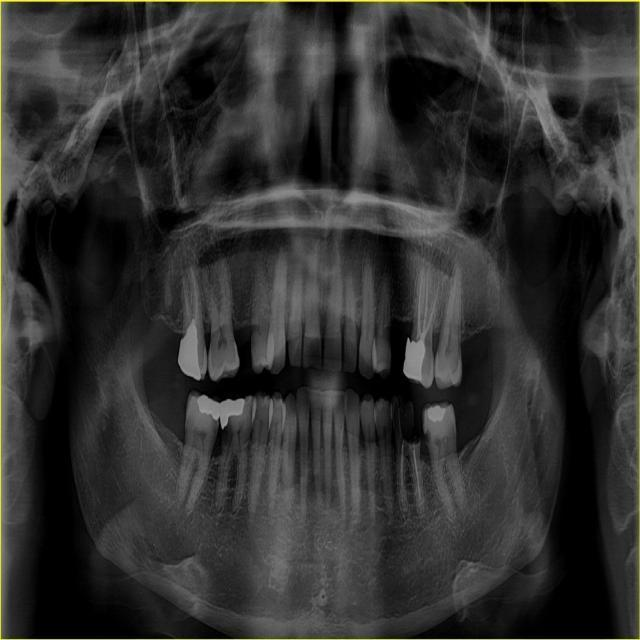72: (165, 270, 173, 309)
74: (419, 284, 442, 343), (415, 270, 426, 341), (411, 447, 422, 501), (421, 269, 430, 334), (181, 276, 192, 324), (192, 266, 199, 324), (399, 438, 405, 494)
NucleOSS Implant: (174, 320, 201, 381), (402, 336, 427, 381), (192, 391, 226, 424), (219, 396, 247, 428), (424, 401, 449, 426)
Sterngold Implant: (388, 393, 422, 450), (218, 417, 237, 458), (422, 425, 434, 446), (382, 326, 390, 349)
